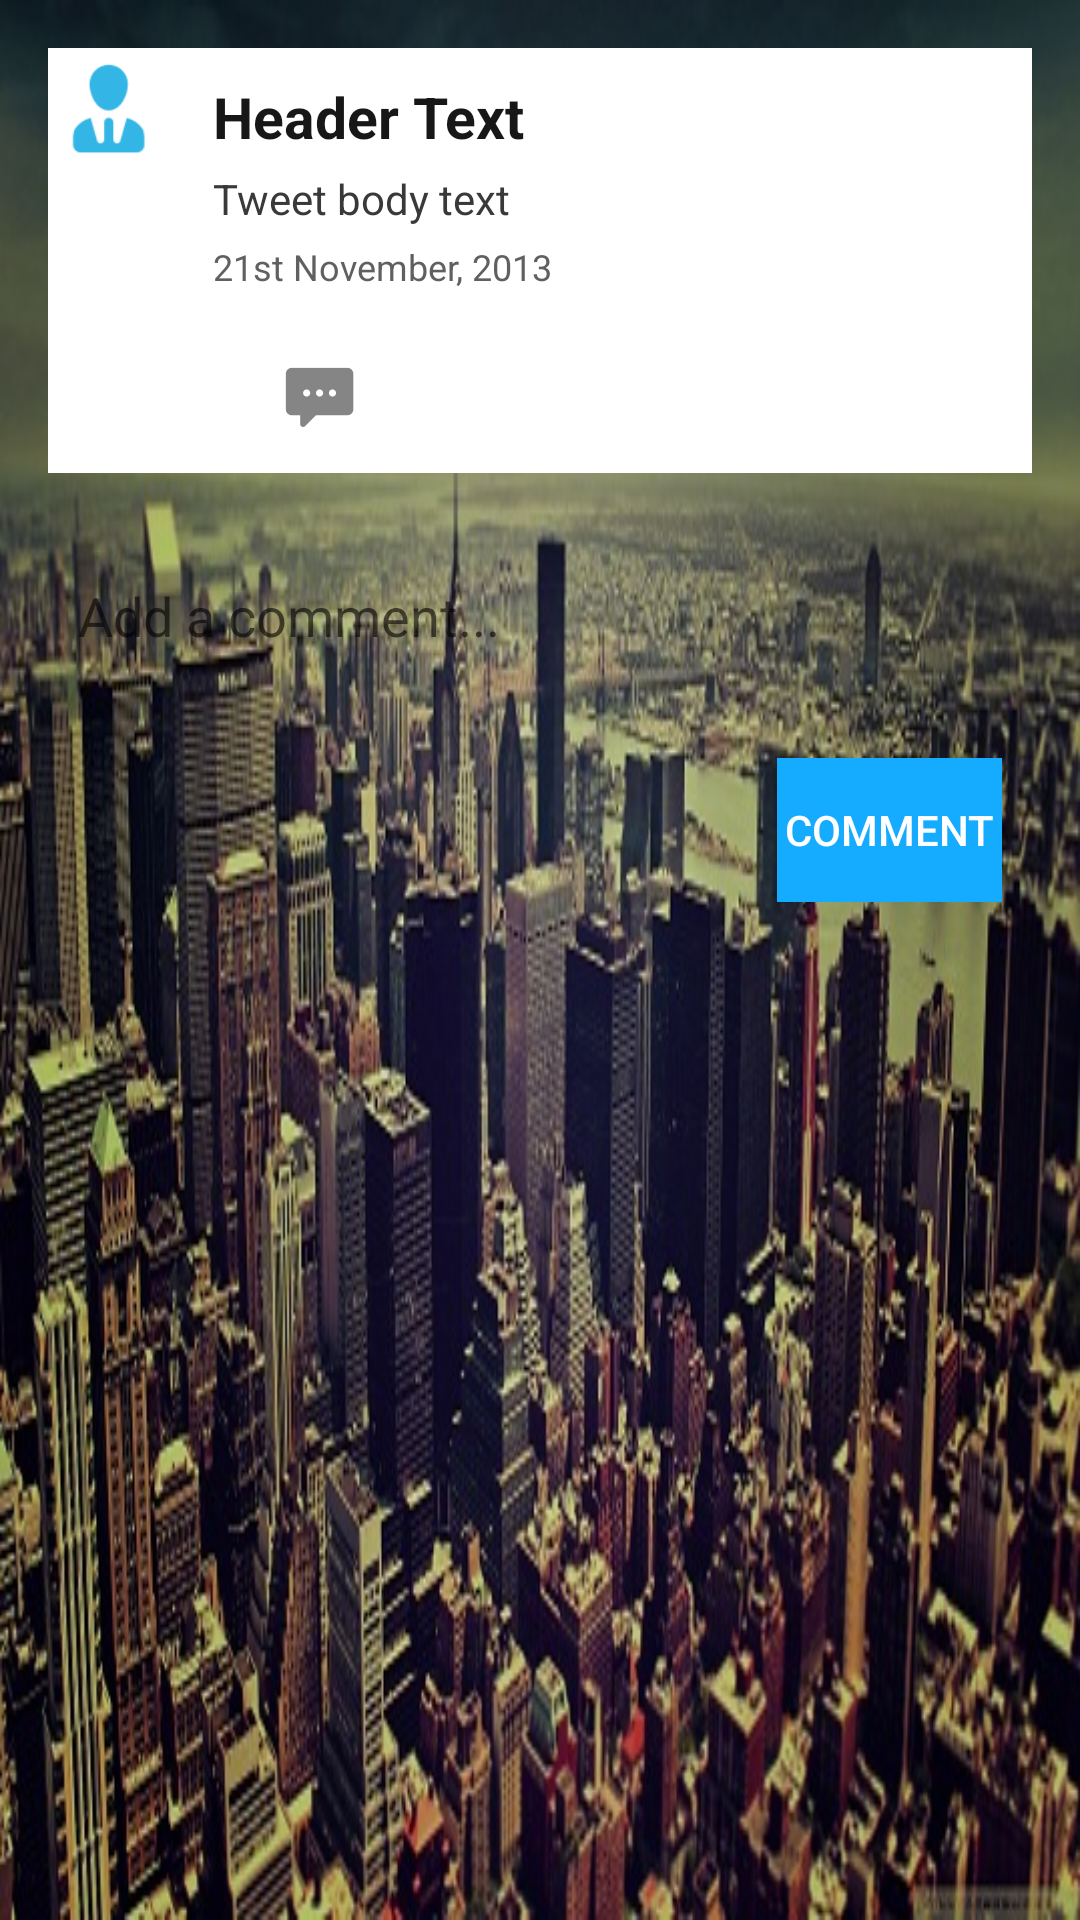

Named icons in this screenshot (1080*1920) and their bounding boxes, bbox=(x1, y1, x2, y2):
user: bbox=(72, 64, 145, 153)
